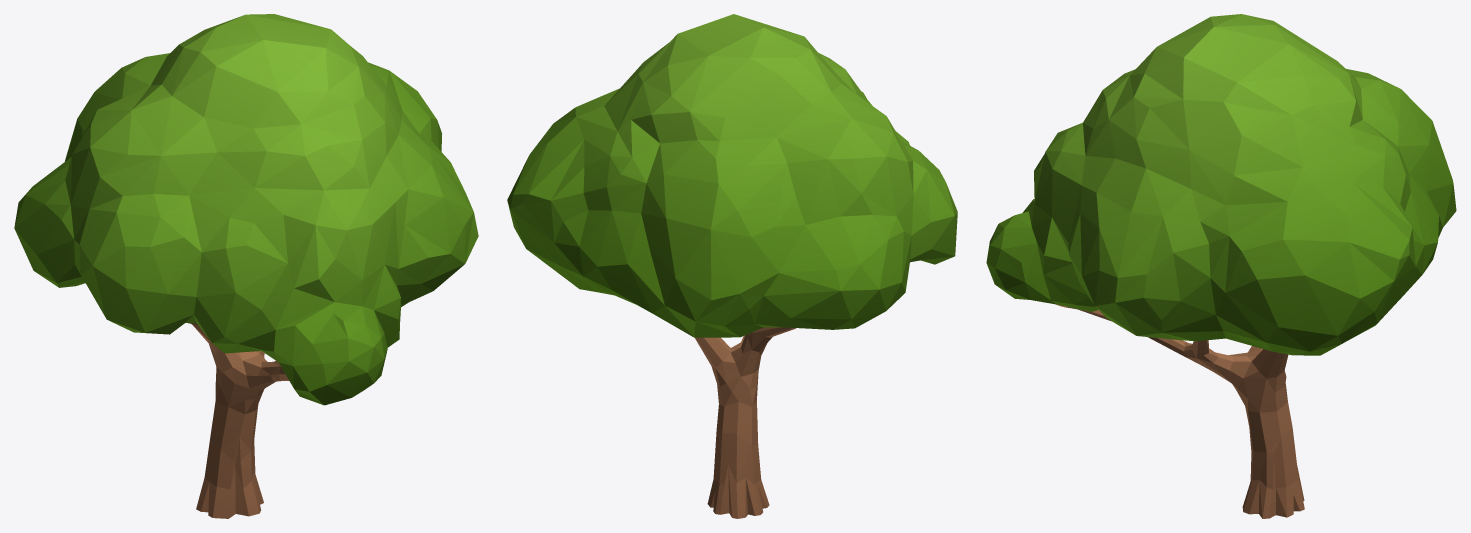
The model's file is Tree_Common_02.fbx.
3 views of the same model, side by side, from view 1: azimuth 30°, elevation 25°; view 2: azimuth 150°, elevation 25°; view 3: azimuth 270°, elevation 25° (orthographic). The views are drawn at different scales.
Parts seen in each view (by area): view 1: Tree_Common_02; view 2: Tree_Common_02; view 3: Tree_Common_02.
Boxes of the visible parts, left/top/right/bottom form: Tree_Common_02: left=14, top=14, right=478, bottom=518; Tree_Common_02: left=507, top=14, right=957, bottom=518; Tree_Common_02: left=986, top=14, right=1456, bottom=518.
Bounding box in the file's own units: 837 × 1003 × 890.
